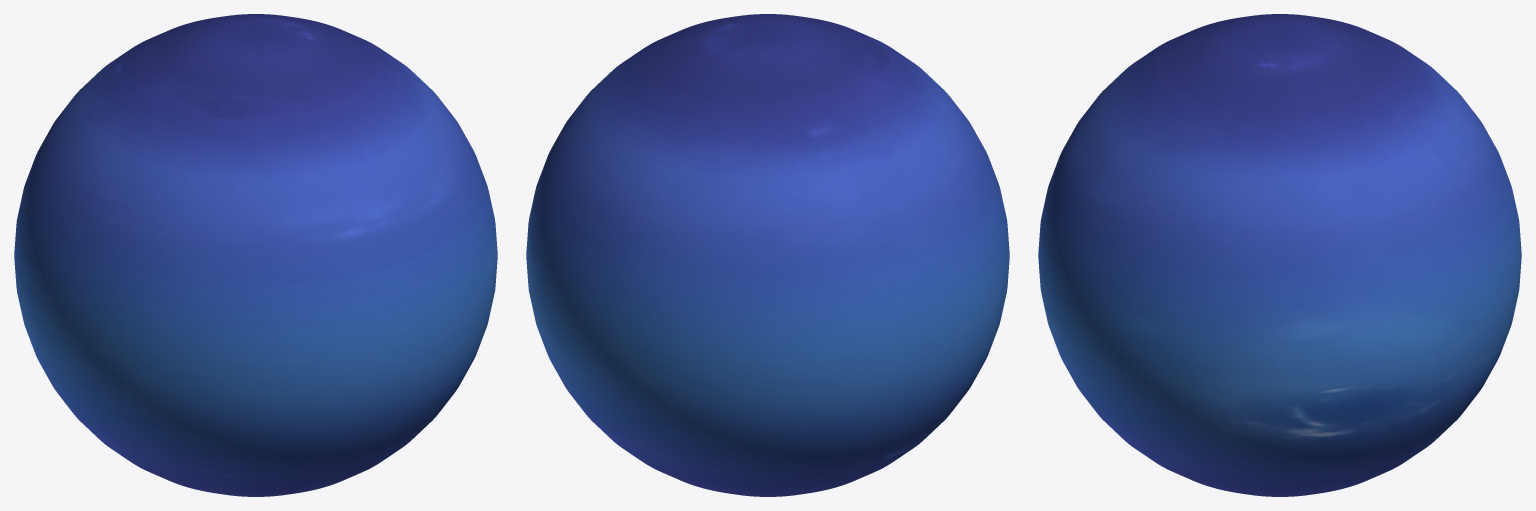
File: neptune.obj
3 renders of one model, left to right at view 1: azimuth 30°, elevation 25°; view 2: azimuth 150°, elevation 25°; view 3: azimuth 270°, elevation 25°, orthographic.
Visible parts, largest first — view 1: Sphere_Material.002_0_Sphere_Material.002_0.006; view 2: Sphere_Material.002_0_Sphere_Material.002_0.006; view 3: Sphere_Material.002_0_Sphere_Material.002_0.006.
Boxes of the visible parts, x1,y1,x2,y2 form: Sphere_Material.002_0_Sphere_Material.002_0.006: (14,14,497,496); Sphere_Material.002_0_Sphere_Material.002_0.006: (526,14,1009,496); Sphere_Material.002_0_Sphere_Material.002_0.006: (1038,14,1521,496).
Size of the model in its own units: 200 by 200 by 200.
1 material, 1 textured.
